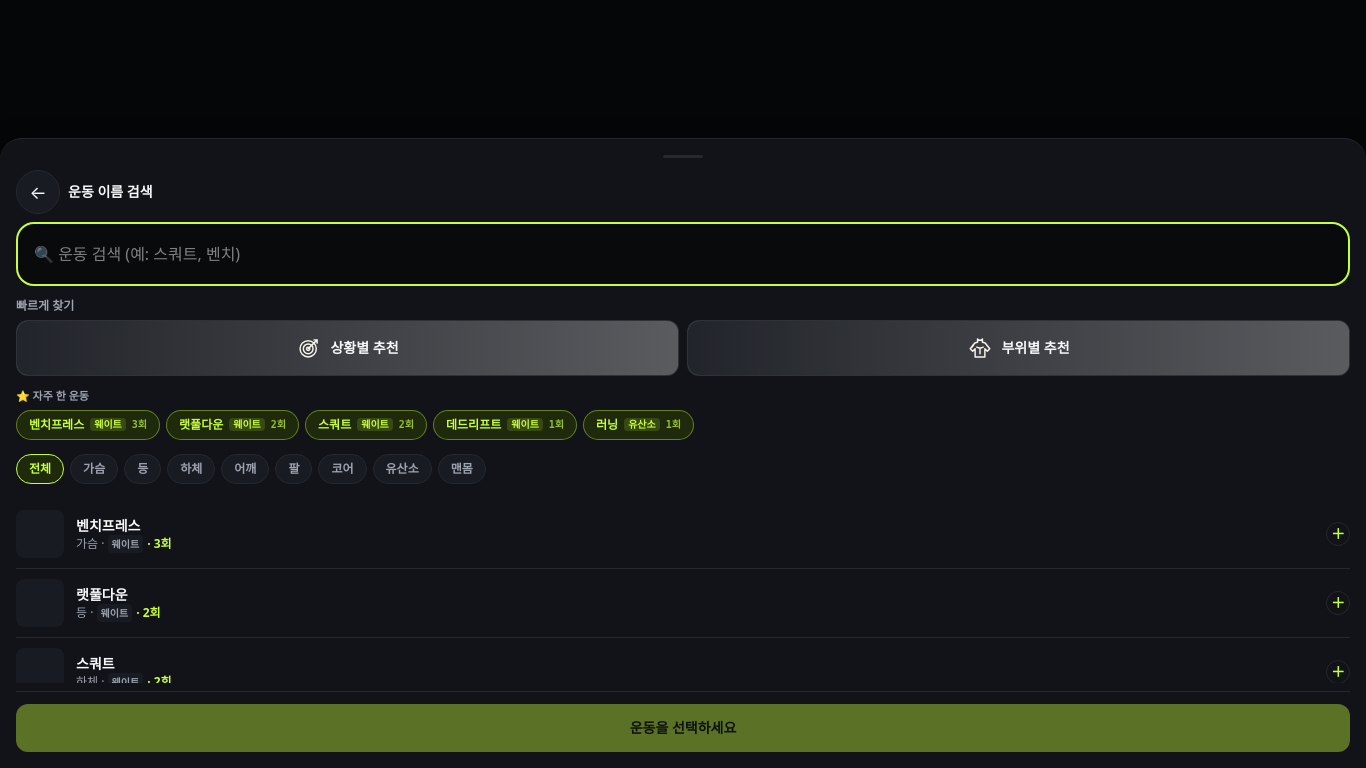
Scenario: ExercisePicker — ⭐ 자주 한 운동 (2026-08-02) › 칩을 누르면 카탈로그 항목과 똑같이 선택된다
Click the button "벤치프레스 웨이트 3회" at coordinates (88, 425), box [16,410,160,440]
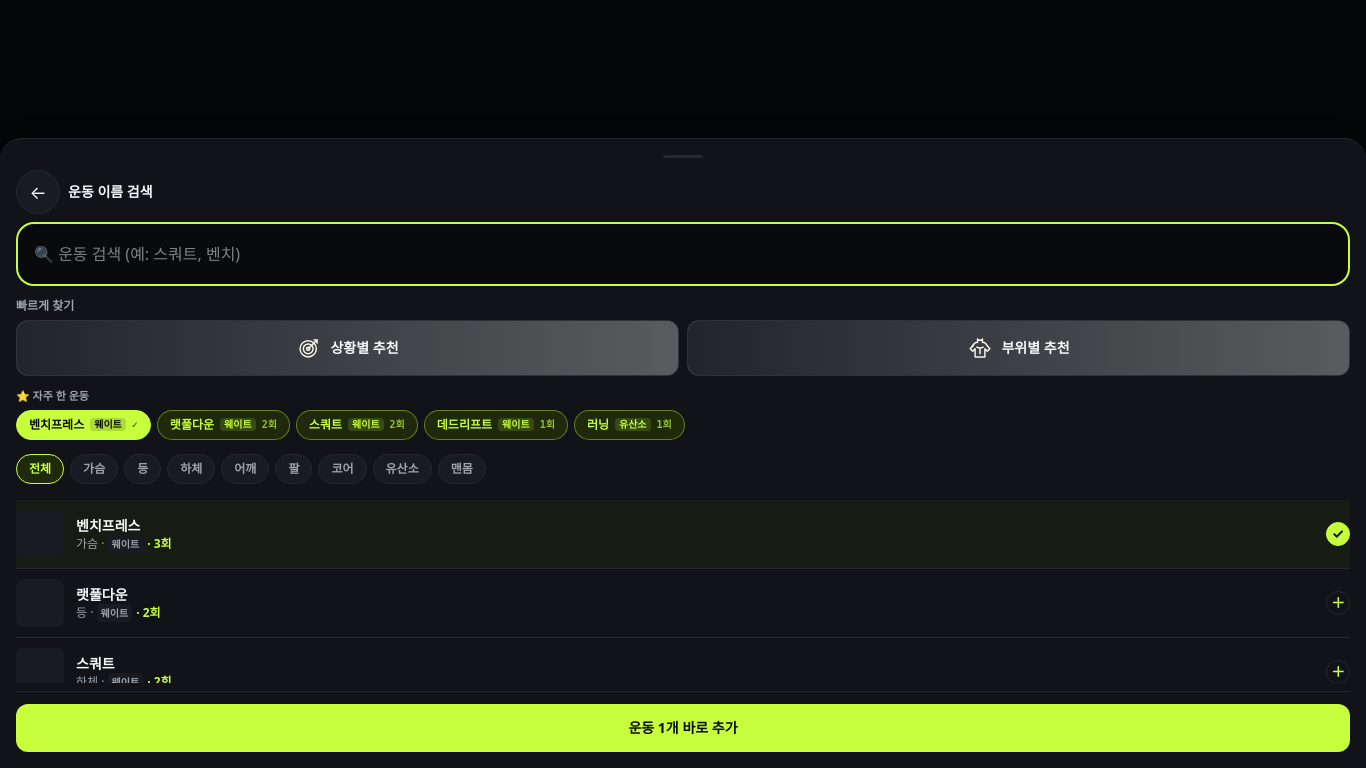
Check: the button "운동 1개 바로 추가" is shown, box [16,704,1350,752]
